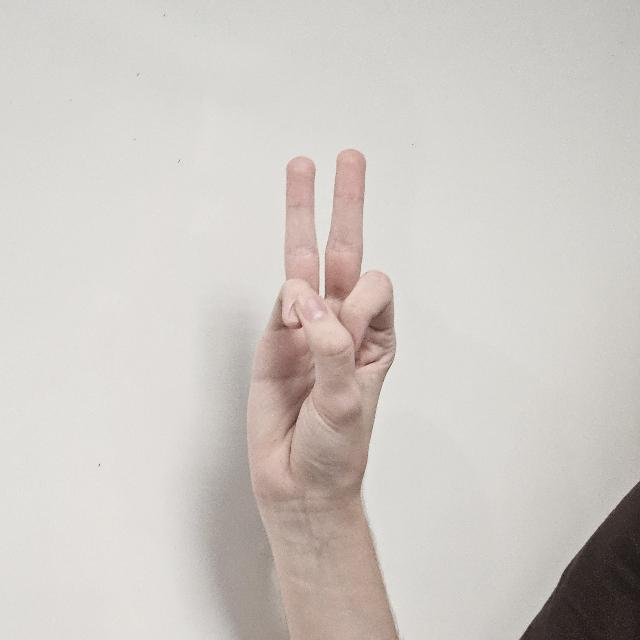R: (245, 134, 399, 550)
